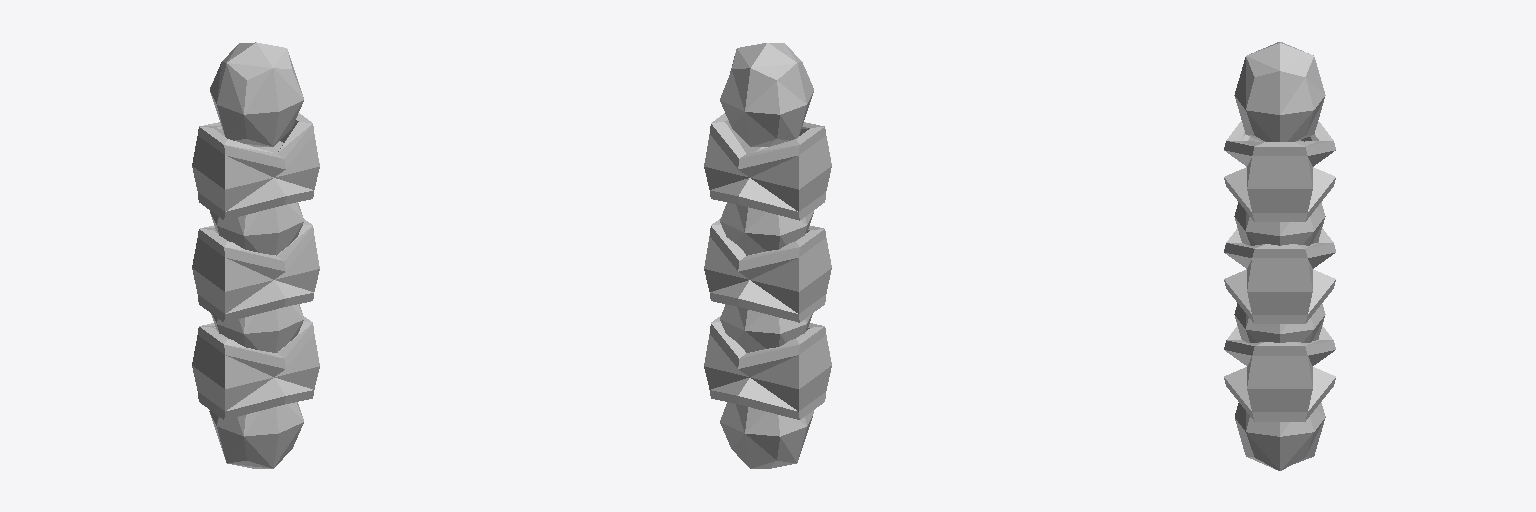
File: lowerback.obj
3 views of the same model, side by side, from view 1: azimuth 30°, elevation 25°; view 2: azimuth 150°, elevation 25°; view 3: azimuth 270°, elevation 25° (orthographic).
Parts seen in each view (by area): view 1: 6; view 2: 6; view 3: 6.
Part boxes in pixels (x1,y1,x2,y2): 6: (192, 42, 319, 468); 6: (704, 43, 831, 468); 6: (1224, 42, 1335, 470).
Bounding box in the file's own units: 0.0607 × 0.26 × 0.0622.